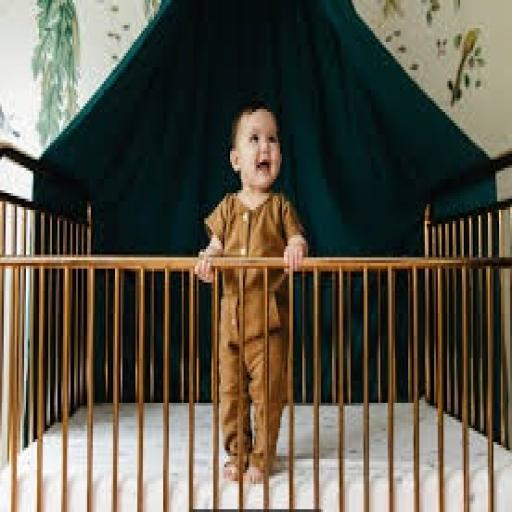baby: (219, 269, 265, 484)
crib: (0, 194, 511, 511)
